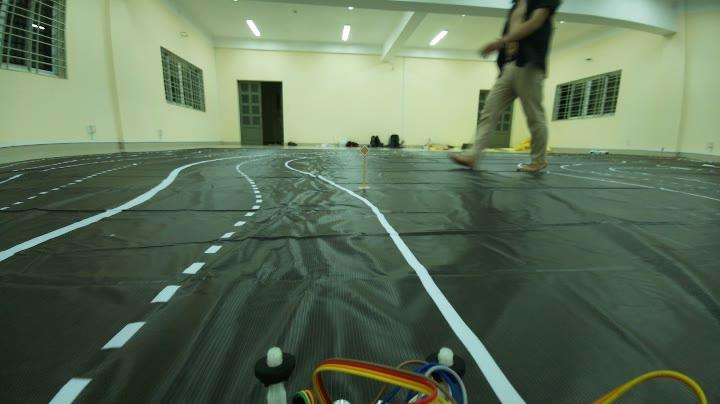priority: (358, 142, 374, 160)
